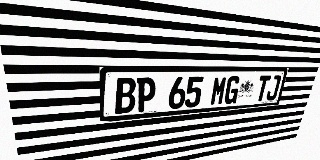5: (184, 76, 204, 108)
6: (168, 77, 188, 109)
B: (115, 77, 136, 114)
G: (223, 76, 241, 104)
J: (265, 75, 282, 101)
M: (209, 76, 228, 106)
P: (135, 77, 156, 112)
T: (254, 75, 271, 102)
